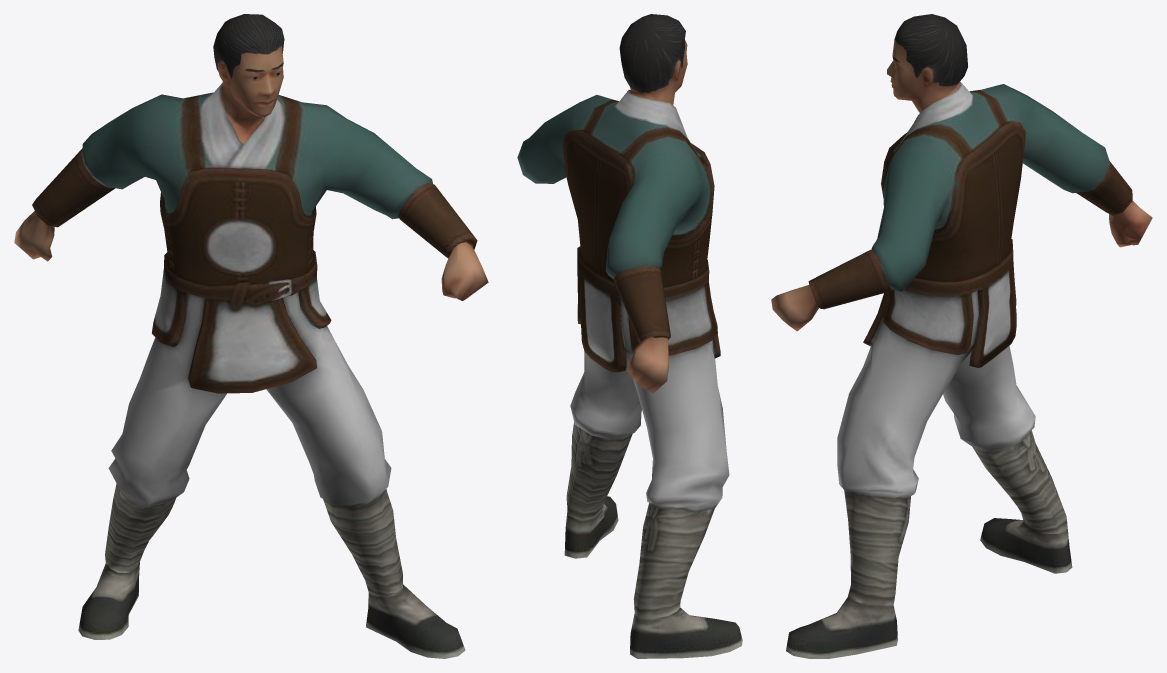
File: body-base.glb
3 renders of one model, left to right at view 1: azimuth 30°, elevation 25°; view 2: azimuth 150°, elevation 25°; view 3: azimuth 270°, elevation 25°, orthographic. The views are drawn at different scales.
Size of the model in its own units: 1 by 1.99 by 1.2.
Materials: 1 (1 with a texture image).
